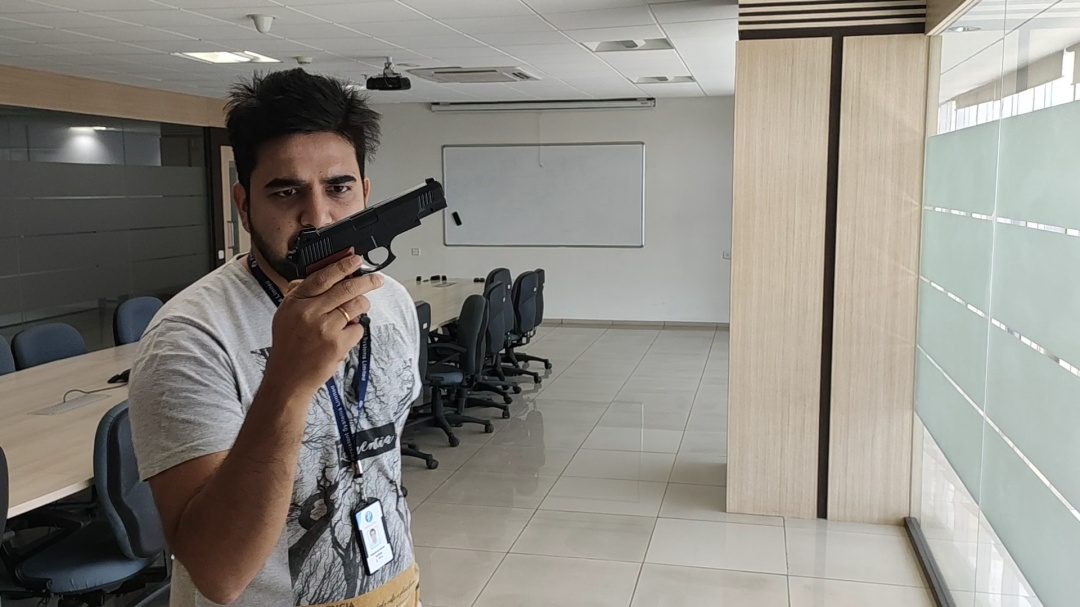gun: (284, 170, 456, 283)
